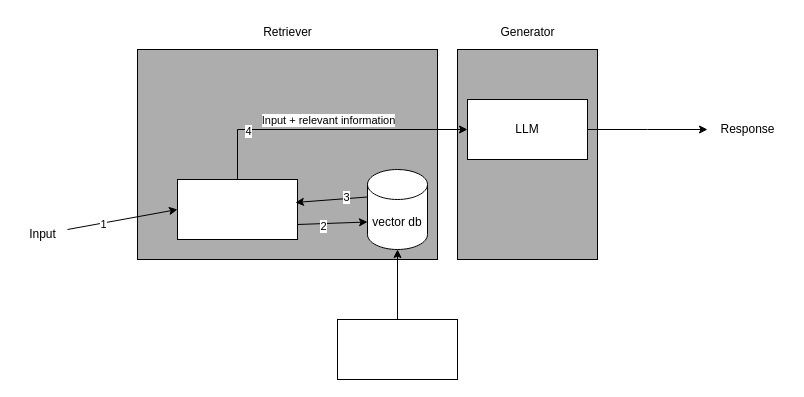
Some shapes in this 804 by 397 pixel diagram are drawn without their labels. The shapes that lost their labels are listed below. From the top down, each one's centre as x and y in pixels, then its label:
At (237,209): "Search relevant information".
At (397,349): "10000 ABA tasks sample".
